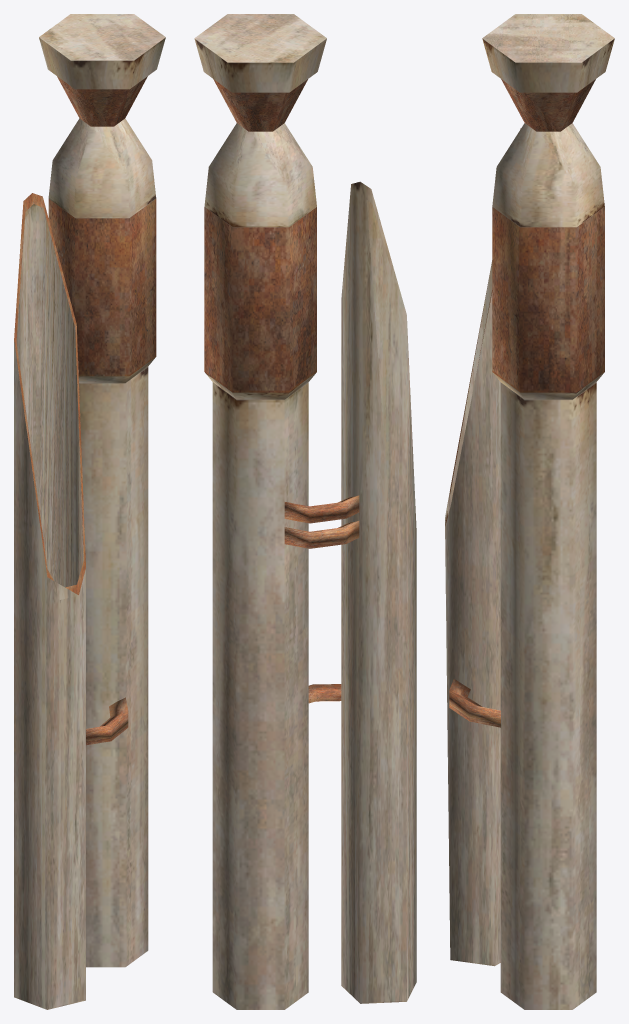
The model's file is thm_tato_debris_s04_l2.fbx.
3 views of the same model, side by side, from view 1: azimuth 30°, elevation 25°; view 2: azimuth 150°, elevation 25°; view 3: azimuth 270°, elevation 25° (orthographic). The views are drawn at different scales.
Visible parts, largest first — view 1: mesh_node; view 2: mesh_node; view 3: mesh_node.
Part boxes in pixels (box(x1,y1,x2,y2)): mesh_node: box(14, 14, 165, 1009); mesh_node: box(194, 14, 416, 1009); mesh_node: box(445, 14, 614, 1009).
Bounding box in the file's own units: 0.9783 × 5.28 × 0.8521.
Materials: 2 (2 with a texture image).
